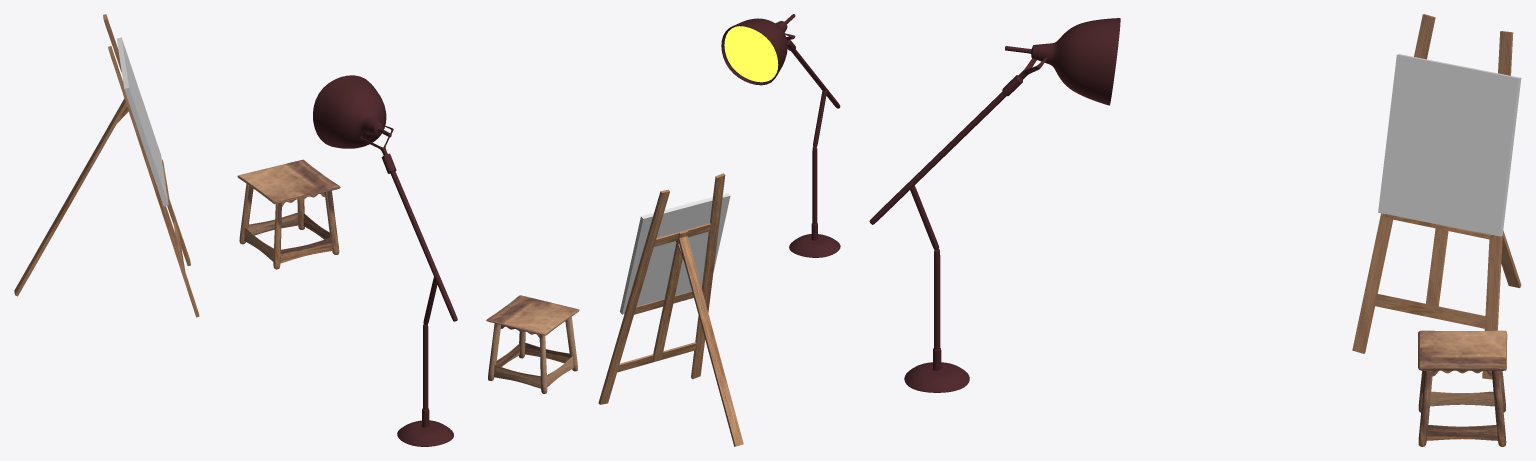
The picture shows the model from 3 angles, left to right: view 1: azimuth 30°, elevation 25°; view 2: azimuth 150°, elevation 25°; view 3: azimuth 270°, elevation 25°; orthographic projection. The views are drawn at different scales.
Parts seen in each view (by area): view 1: lamp, stool.002, scene 1 [easle], canvas; view 2: scene 1 [easle], lamp, canvas, stool.002; view 3: canvas, lamp, scene 1 [easle], stool.002.
Boxes of the visible parts, bbox=[...] form: lamp: bbox=[313, 75, 457, 446]; stool.002: bbox=[237, 159, 340, 269]; scene 1 [easle]: bbox=[14, 14, 199, 317]; canvas: bbox=[117, 37, 168, 206]; scene 1 [easle]: bbox=[598, 173, 743, 446]; lamp: bbox=[721, 14, 840, 257]; canvas: bbox=[620, 193, 730, 314]; stool.002: bbox=[486, 295, 579, 393]; canvas: bbox=[1378, 54, 1521, 236]; lamp: bbox=[869, 18, 1120, 392]; scene 1 [easle]: bbox=[1352, 14, 1521, 379]; stool.002: bbox=[1418, 330, 1507, 446].
Size of the model in its own units: 53.78 by 54.34 by 90.36.
